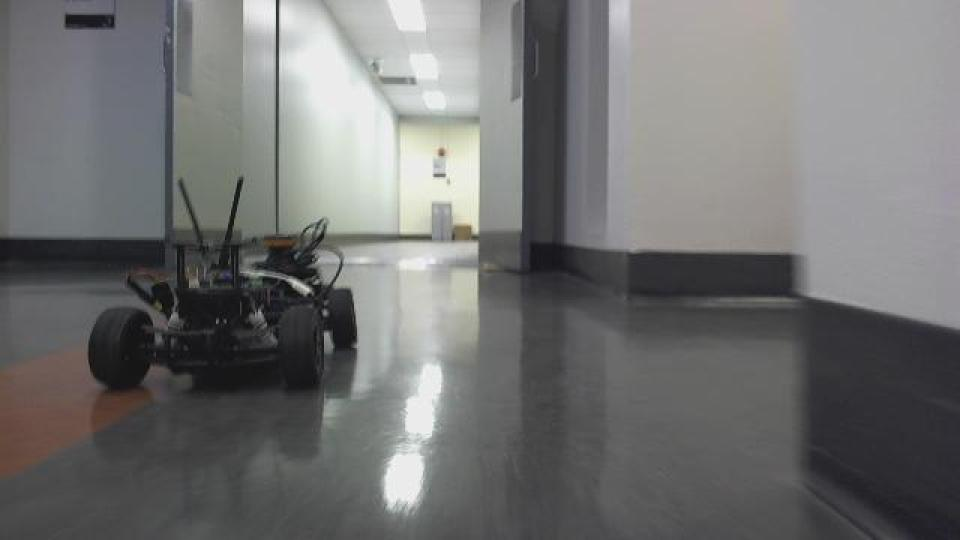car: (84, 174, 360, 394)
